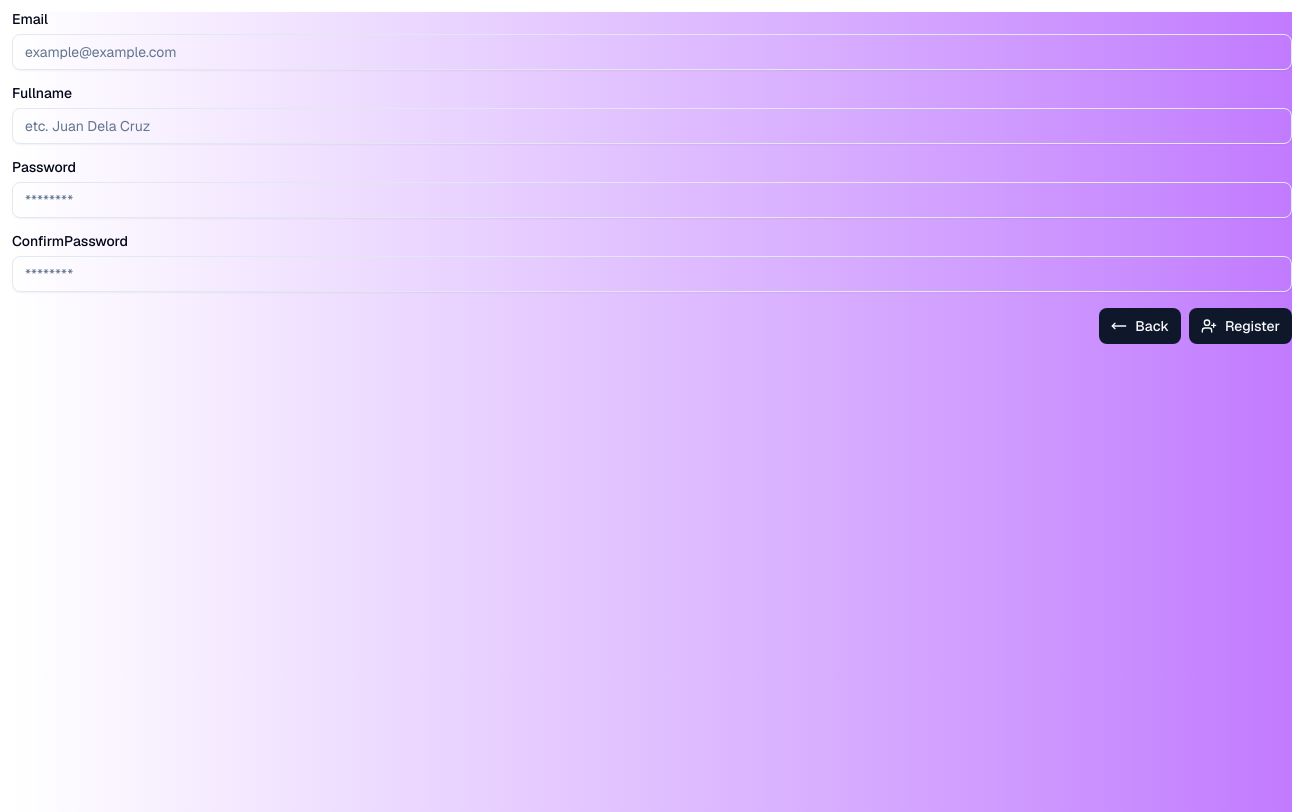
AuthRegisterForm › Validation › shows error message for password without uppercase
Type "password1!" into the password field labelled "password".
click(652, 200); type("password1!")  # box [12,182,1292,218]
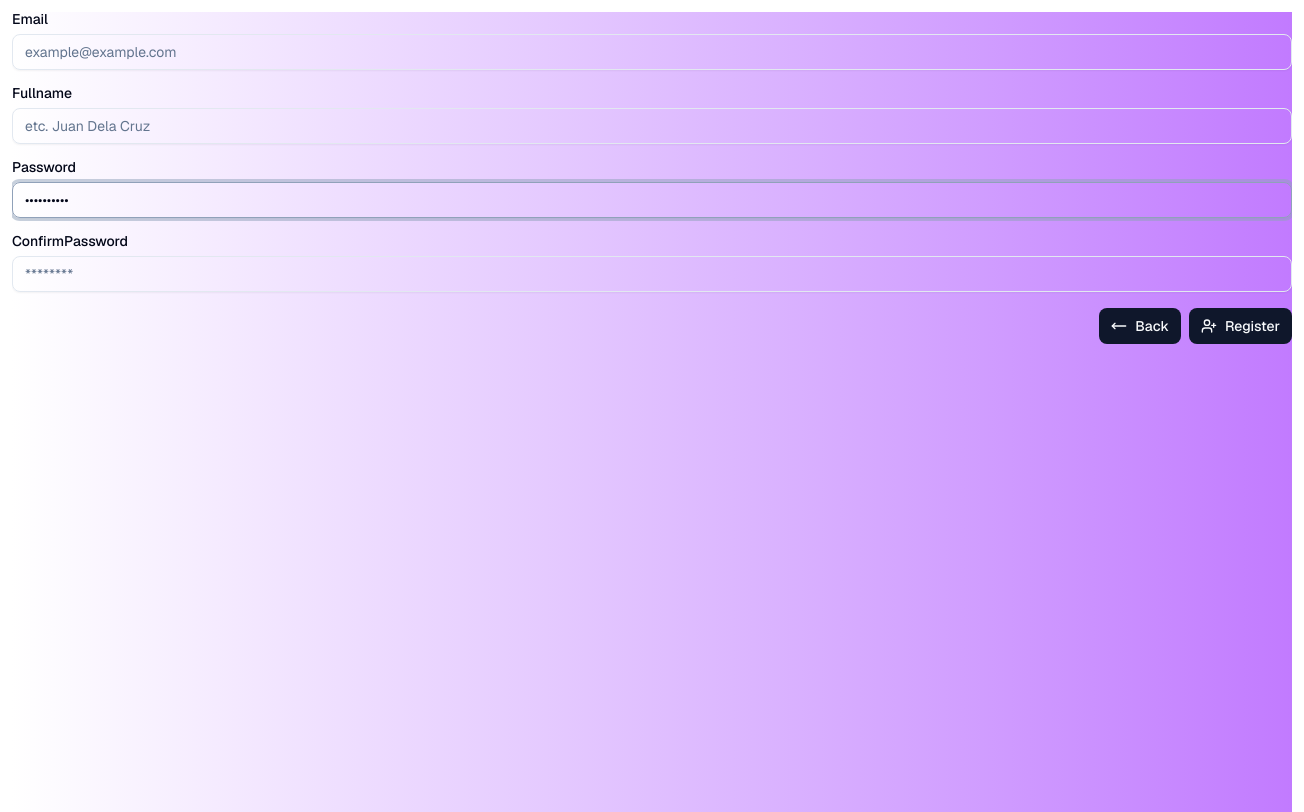
Click the button "Register".
click(1240, 326)  # box [1189,308,1292,344]
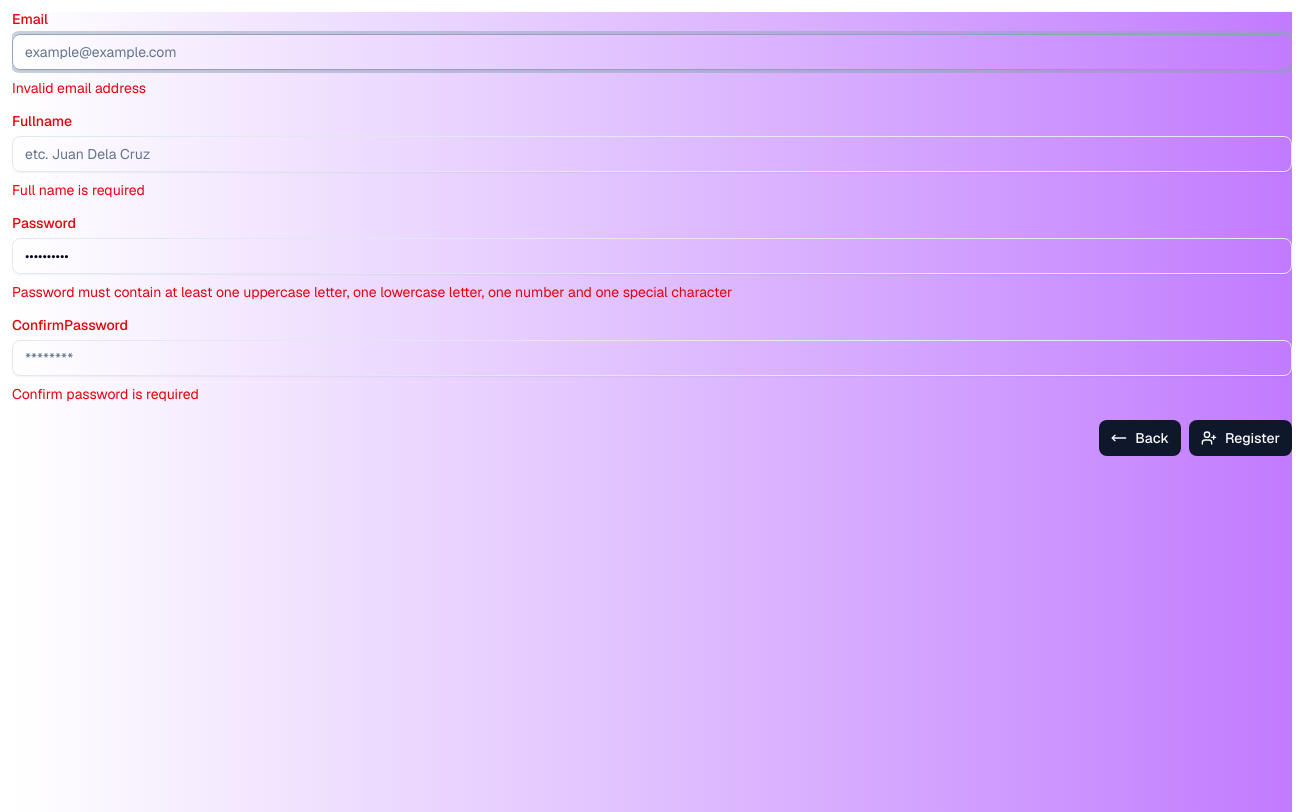
Result: the text "uppercase letter" is shown at [12,283,732,301]
